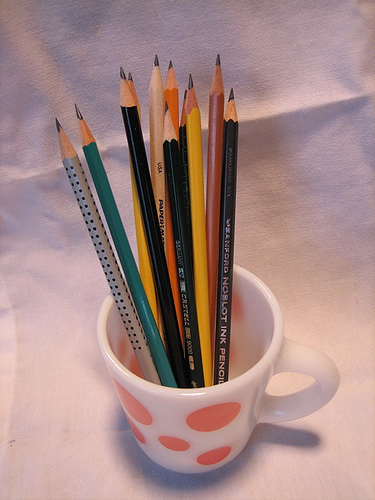pen_tip: (70, 101, 101, 171), (49, 119, 82, 175), (113, 66, 141, 125), (206, 49, 229, 106), (183, 72, 203, 132), (146, 52, 164, 109), (223, 86, 244, 130)
